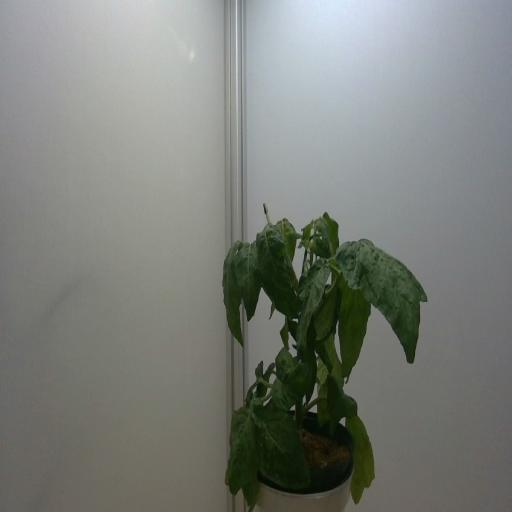Tomato-Leaves-Cupboard-: (334, 239, 428, 370), (331, 255, 375, 387), (254, 402, 313, 497), (256, 226, 300, 326), (222, 406, 260, 498), (343, 411, 377, 508), (296, 254, 333, 341), (269, 343, 318, 408), (220, 238, 247, 348), (235, 231, 261, 327), (316, 376, 357, 429), (314, 274, 340, 342), (314, 335, 346, 390), (320, 207, 343, 253), (275, 212, 295, 258), (244, 354, 263, 396), (244, 471, 262, 510), (261, 361, 276, 399), (279, 319, 291, 361), (300, 213, 314, 248)
